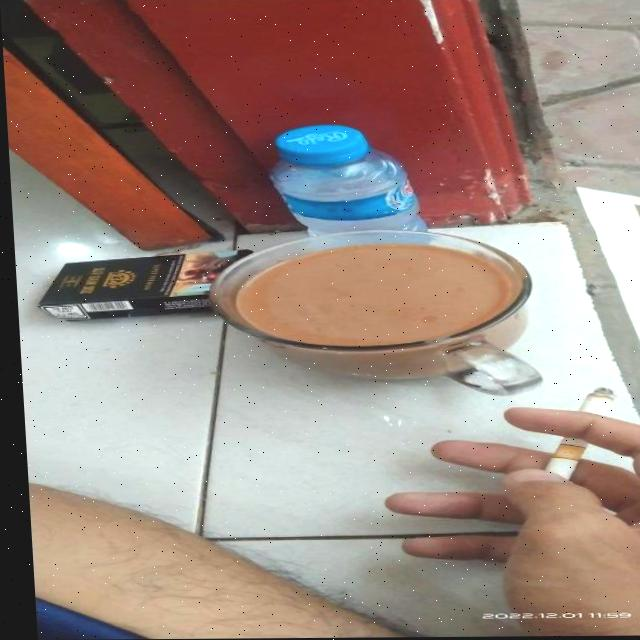cigarette: (537, 384, 613, 479)
